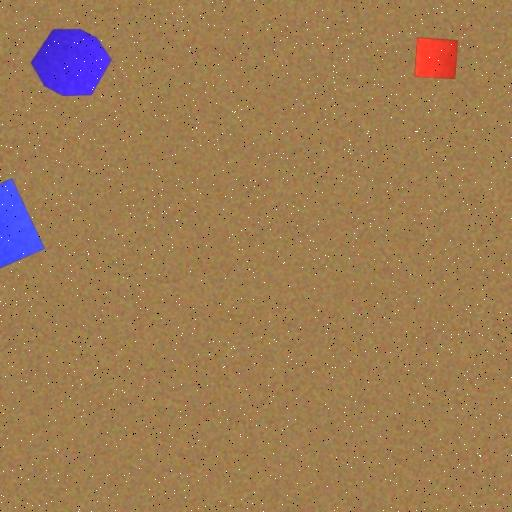BLUE_SQUARE: (0, 178, 45, 279)
RED_SQUARE: (414, 37, 458, 79)
